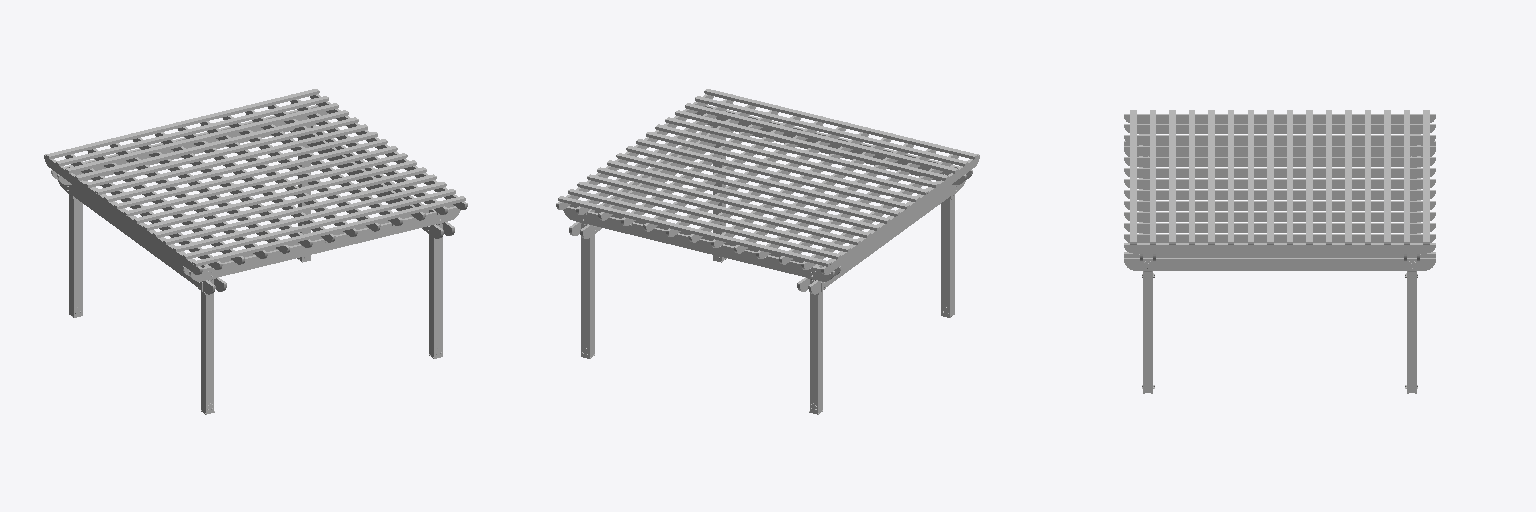
The model's file is santa-monica-16x16-bullnose.obj.
The picture shows the model from 3 angles: view 1: azimuth 30°, elevation 25°; view 2: azimuth 150°, elevation 25°; view 3: azimuth 270°, elevation 25°; orthographic projection.
Parts seen in each view (by area): view 1: Mesh150 header_2x8_ogee_1_3 Group31 Group1 Model, Mesh191 Component_4_11 Group1 Model, Mesh187 Component_4_7 Group1 Model, Mesh200 Component_4_15 Group1 Model, Mesh184 Component_4_4 Group1 Model, Mesh188 Component_4_8 Group1 Model, Mesh189 Component_4_9 Group1 Model, Mesh190 Component_4_10 Group1 Model, Mesh197 Component_4_14 Group1 Model, Mesh183 Component_4_3 Group1 Model, Mesh186 Component_4_6 Group1 Model, Mesh193 Component_4_13 Group1 Model (+23 smaller); view 2: Mesh143 header_2x8_ogee_1_1 Group28 Group1 Model, Mesh201 Component_4_16 Group1 Model, Mesh181 Component_4_1 Group1 Model, Mesh188 Component_4_8 Group1 Model, Mesh190 Component_4_10 Group1 Model, Mesh192 Component_4_12 Group1 Model, Mesh193 Component_4_13 Group1 Model, Mesh200 Component_4_15 Group1 Model, Mesh182 Component_4_2 Group1 Model, Mesh183 Component_4_3 Group1 Model, Mesh187 Component_4_7 Group1 Model, Mesh191 Component_4_11 Group1 Model (+23 smaller); view 3: Mesh153 header_2x8_ogee_5_2 Group34 Group1 Model, Mesh165 Component_38_13 Group38 Group1 Model, Mesh79 Component_38_3 Group18 Group1 Model, Mesh142 Component_38_10 Group27 Group1 Model, Mesh63 Component_38_1 Group14 Group1 Model, Mesh74 Component_38_2 Group17 Group1 Model, Mesh90 Component_38_4 Group21 Group1 Model, Mesh95 Component_38_5 Group22 Group1 Model, Mesh100 Component_38_6 Group23 Group1 Model, Mesh105 Component_38_7 Group24 Group1 Model, Mesh132 Component_38_8 Group25 Group1 Model, Mesh137 Component_38_9 Group26 Group1 Model (+21 smaller).
Part boxes in pixels (x1,y1,x2,y2): Mesh150 header_2x8_ogee_1_3 Group31 Group1 Model: (189,206,460,281); Mesh191 Component_4_11 Group1 Model: (75,110,348,180); Mesh187 Component_4_7 Group1 Model: (124,146,397,216); Mesh200 Component_4_15 Group1 Model: (104,132,377,201); Mesh184 Component_4_4 Group1 Model: (46,89,319,159); Mesh188 Component_4_8 Group1 Model: (192,196,465,266); Mesh189 Component_4_9 Group1 Model: (153,167,426,237); Mesh190 Component_4_10 Group1 Model: (163,174,436,244); Mesh197 Component_4_14 Group1 Model: (134,153,407,223); Mesh183 Component_4_3 Group1 Model: (65,103,338,173); Mesh186 Component_4_6 Group1 Model: (183,189,455,259); Mesh193 Component_4_13 Group1 Model: (85,117,358,187); Mesh143 header_2x8_ogee_1_1 Group28 Group1 Model: (563,206,834,281); Mesh201 Component_4_16 Group1 Model: (655,124,928,194); Mesh181 Component_4_1 Group1 Model: (626,146,899,216); Mesh188 Component_4_8 Group1 Model: (704,89,977,159); Mesh190 Component_4_10 Group1 Model: (675,110,948,180); Mesh192 Component_4_12 Group1 Model: (685,103,958,173); Mesh193 Component_4_13 Group1 Model: (597,167,870,237); Mesh200 Component_4_15 Group1 Model: (616,153,889,223); Mesh182 Component_4_2 Group1 Model: (568,189,840,259); Mesh183 Component_4_3 Group1 Model: (577,182,850,251); Mesh187 Component_4_7 Group1 Model: (636,139,909,209); Mesh191 Component_4_11 Group1 Model: (587,174,860,244); Mesh153 header_2x8_ogee_5_2 Group34 Group1 Model: (1124,258,1435,270); Mesh165 Component_38_13 Group38 Group1 Model: (1124,243,1435,253); Mesh79 Component_38_3 Group18 Group1 Model: (1124,114,1435,123); Mesh142 Component_38_10 Group27 Group1 Model: (1124,223,1435,232); Mesh63 Component_38_1 Group14 Group1 Model: (1124,201,1435,210); Mesh74 Component_38_2 Group17 Group1 Model: (1124,168,1435,177); Mesh90 Component_38_4 Group21 Group1 Model: (1124,179,1435,188); Mesh95 Component_38_5 Group22 Group1 Model: (1124,157,1435,166); Mesh100 Component_38_6 Group23 Group1 Model: (1124,146,1435,155); Mesh105 Component_38_7 Group24 Group1 Model: (1124,190,1435,199); Mesh132 Component_38_8 Group25 Group1 Model: (1124,135,1435,144); Mesh137 Component_38_9 Group26 Group1 Model: (1124,124,1435,133).
Size of the model in its own units: 192 by 108 by 192.